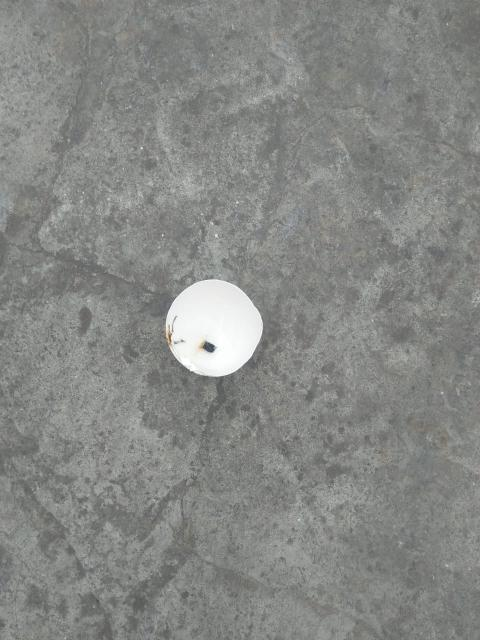Roto: (164, 278, 264, 378)
